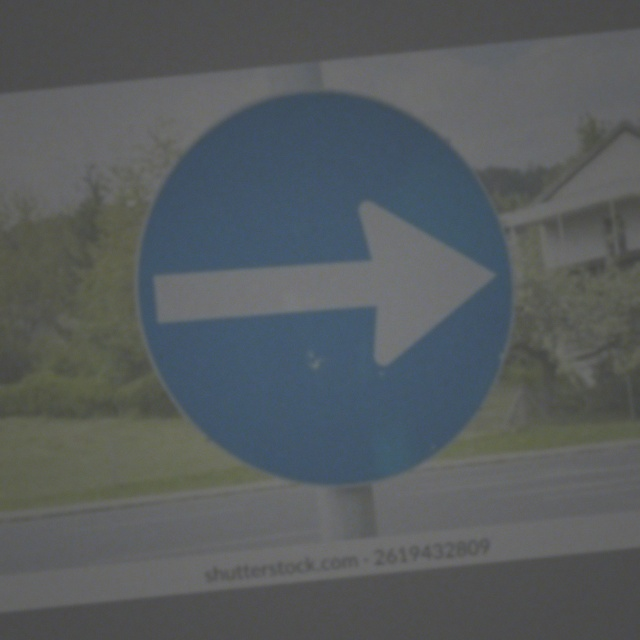Compulsory_Turn_Right: (115, 69, 532, 508)
